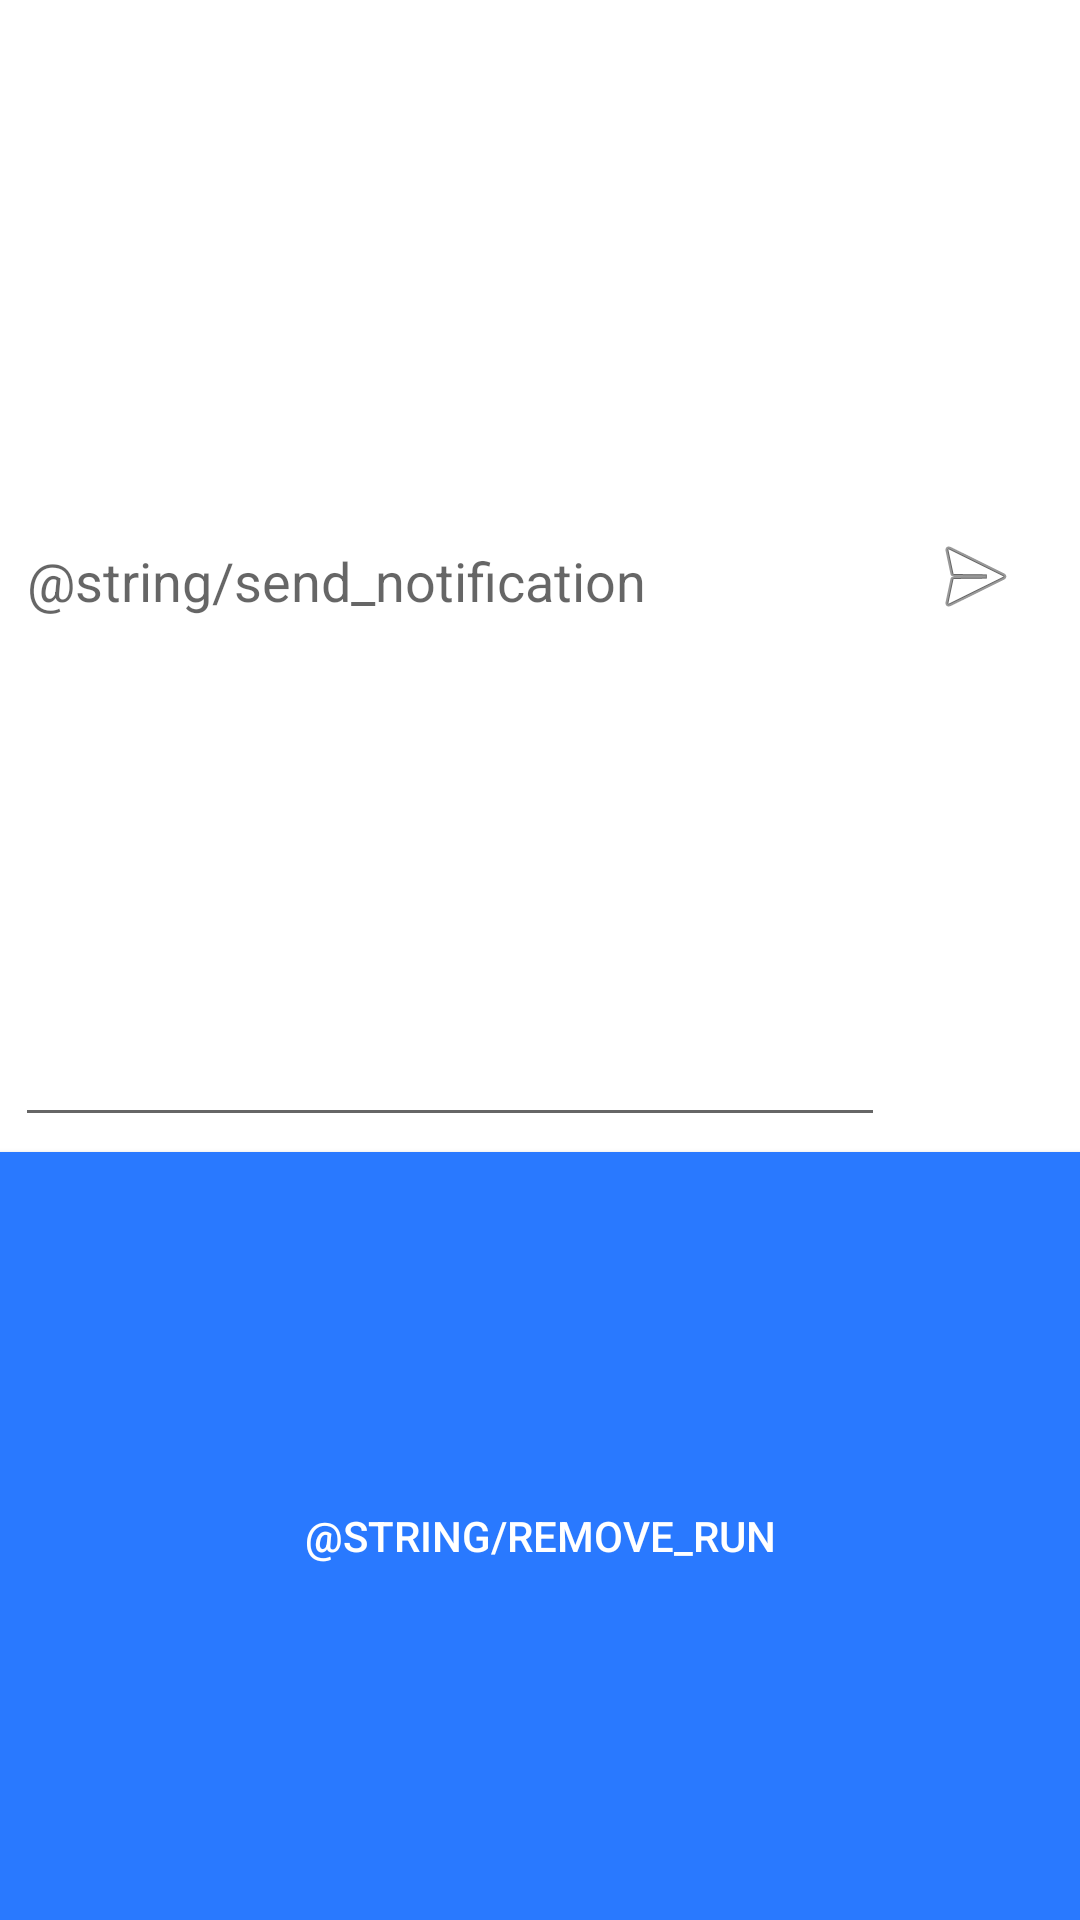

Locate icon controls on the screen. Image size 1080×1920, boxes as Rect(x1, y1, x2, y2).
send: Rect(945, 546, 1007, 607)
